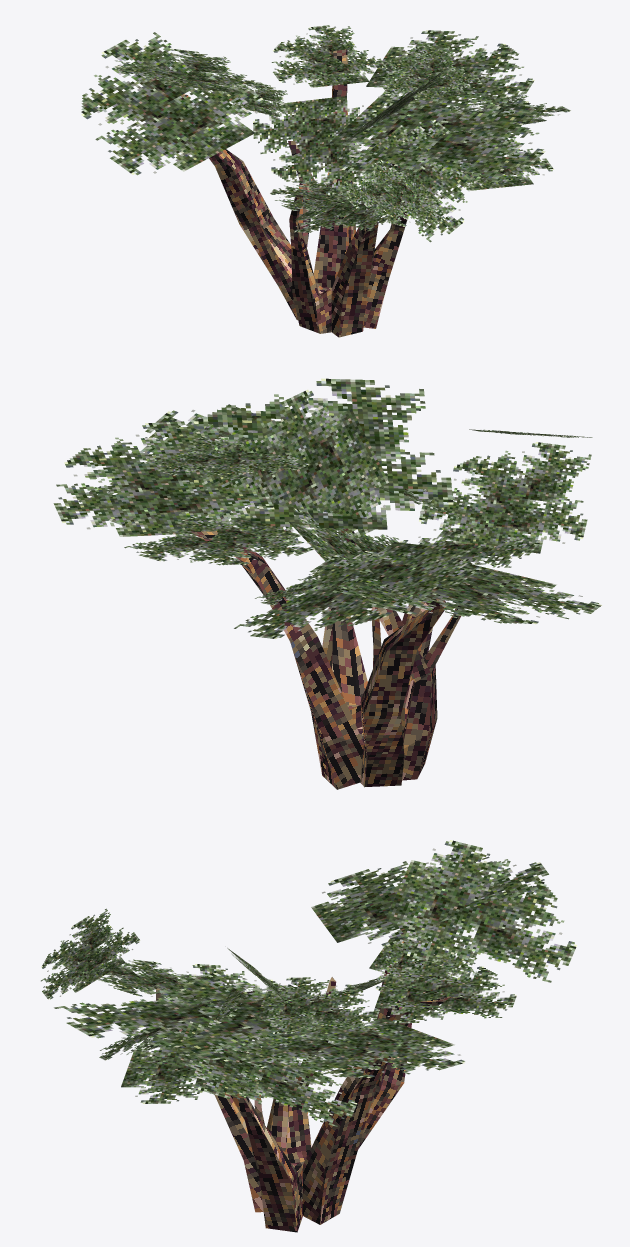
The model's file is MontereyCyprus2.glb.
3 views of the same model, one above another, from view 1: azimuth 30°, elevation 25°; view 2: azimuth 150°, elevation 25°; view 3: azimuth 270°, elevation 25° (orthographic). The views are drawn at different scales.
Parts seen in each view (by area): view 1: Trunk-col, Leaves2, Leaves13, Leaves11, Leaves6, Leaves10, Leaves14, Leaves9, Leaves12, Leaves, Leaves8, Leaves16 (+4 smaller); view 2: Trunk-col, Leaves6, Leaves13, Leaves5, Leaves8, Leaves, Leaves2, Leaves10, Leaves12, Leaves11, Leaves7, Leaves15 (+1 smaller); view 3: Trunk-col, Leaves, Leaves13, Leaves6, Leaves15, Leaves2, Leaves10, Leaves12, Leaves9, Leaves16, Leaves8, Leaves3 (+2 smaller).
Boxes of the visible parts, bbox=[...] form: Trunk-col: bbox=[180, 49, 408, 337]; Leaves2: bbox=[81, 32, 263, 175]; Leaves13: bbox=[329, 93, 545, 182]; Leaves11: bbox=[253, 96, 376, 195]; Leaves6: bbox=[366, 30, 534, 106]; Leaves10: bbox=[271, 25, 387, 87]; Leaves14: bbox=[354, 120, 474, 242]; Leaves9: bbox=[338, 160, 445, 226]; Leaves12: bbox=[381, 45, 481, 99]; Leaves: bbox=[115, 48, 269, 93]; Leaves8: bbox=[294, 184, 399, 232]; Leaves16: bbox=[430, 127, 553, 190]; Trunk-col: bbox=[191, 528, 464, 789]; Leaves6: bbox=[53, 421, 274, 536]; Leaves13: bbox=[186, 378, 453, 529]; Leaves5: bbox=[200, 389, 388, 545]; Leaves8: bbox=[419, 442, 591, 553]; Leaves: bbox=[234, 542, 481, 638]; Leaves2: bbox=[331, 551, 601, 624]; Leaves10: bbox=[124, 516, 314, 565]; Leaves12: bbox=[143, 436, 309, 478]; Leaves11: bbox=[289, 508, 398, 566]; Leaves7: bbox=[393, 528, 540, 604]; Leaves15: bbox=[78, 404, 297, 525]; Trunk-col: bbox=[156, 916, 450, 1232]; Leaves: bbox=[385, 840, 576, 982]; Leaves13: bbox=[54, 972, 354, 1061]; Leaves6: bbox=[223, 1017, 464, 1078]; Leaves15: bbox=[173, 1012, 357, 1126]; Leaves2: bbox=[311, 853, 548, 946]; Leaves10: bbox=[375, 958, 516, 1023]; Leaves12: bbox=[255, 977, 379, 1033]; Leaves9: bbox=[41, 908, 140, 999]; Leaves16: bbox=[121, 1031, 261, 1103]; Leaves8: bbox=[63, 959, 197, 1002]; Leaves3: bbox=[369, 932, 480, 994].
Size of the model in its own units: 15.8 by 8.34 by 14.45.
13 materials, 13 textured.
